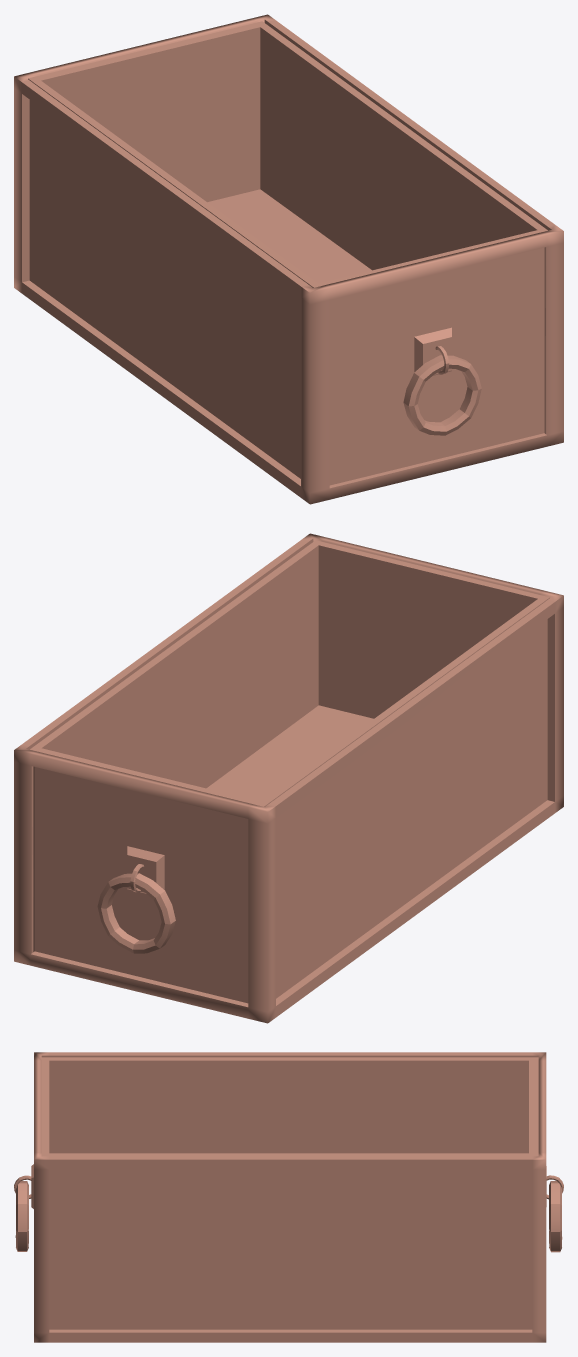
The model's file is Chest_Lod0.fbx.
3 renders of one model, top to bottom at view 1: azimuth 30°, elevation 25°; view 2: azimuth 150°, elevation 25°; view 3: azimuth 270°, elevation 25°, orthographic. The views are drawn at different scales.
Parts seen in each view (by area): view 1: Chest_Lod0; view 2: Chest_Lod0; view 3: Chest_Lod0.
Boxes of the visible parts, <box> form: Chest_Lod0: <box>14,14,563,504</box>; Chest_Lod0: <box>14,533,563,1023</box>; Chest_Lod0: <box>14,1052,563,1342</box>.
Bounding box in the file's own units: 60.69 × 48.29 × 132.
